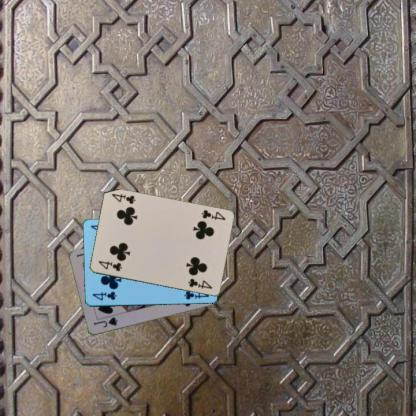4c: (95, 258, 123, 273), (199, 208, 226, 222), (90, 289, 117, 301)
Js: (91, 314, 118, 329)
